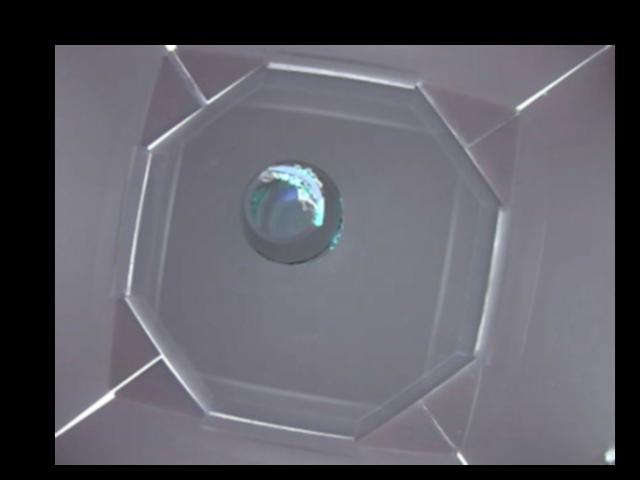Bottle: (244, 161, 342, 265)
